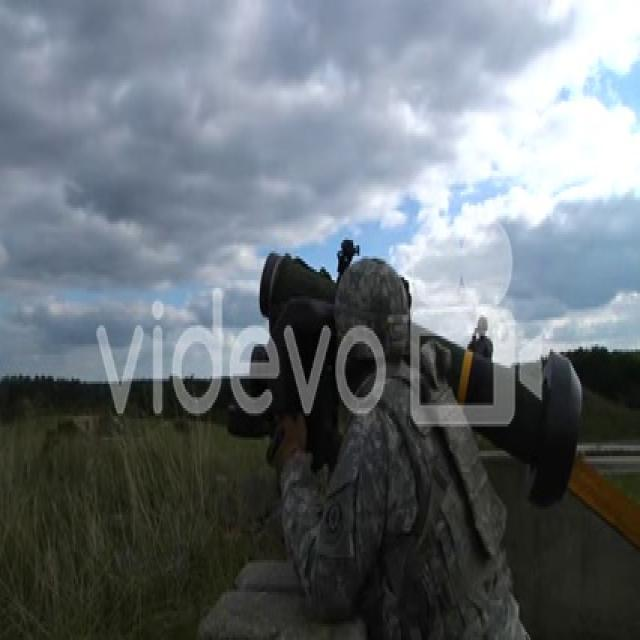bazooka: (255, 250, 583, 517)
